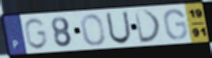8: (51, 16, 74, 49)
D: (133, 9, 163, 44)
G: (162, 8, 189, 42), (22, 17, 49, 51)
O: (80, 13, 107, 47)
U: (104, 10, 132, 45)
